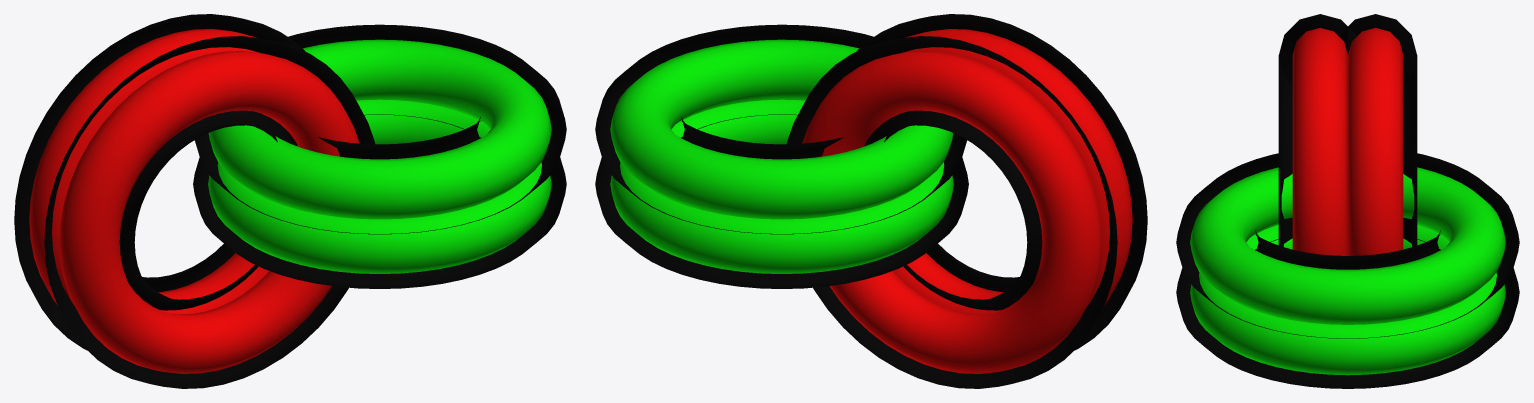
Rendered from 4_in_2_chain_tutorial_02.glb.
3 views of the same model, side by side, from view 1: azimuth 30°, elevation 25°; view 2: azimuth 150°, elevation 25°; view 3: azimuth 270°, elevation 25° (orthographic). The views are drawn at different scales.
Visible parts, largest first — view 1: Torus.001, Torus.003, Torus.002, Torus; view 2: Torus, Torus.003, Torus.002, Torus.001; view 3: Torus.003, Torus.002, Torus, Torus.001.
Boxes of the visible parts, left/top/right/bottom form: Torus.001: left=44, top=36, right=375, bottom=388; Torus.003: left=194, top=24, right=566, bottom=234; Torus.002: left=193, top=99, right=566, bottom=288; Torus: left=14, top=14, right=305, bottom=350; Torus: left=786, top=36, right=1117, bottom=388; Torus.003: left=595, top=24, right=967, bottom=234; Torus.002: left=595, top=99, right=968, bottom=288; Torus.001: left=856, top=14, right=1147, bottom=350; Torus.003: left=1176, top=153, right=1519, bottom=338; Torus.002: left=1176, top=225, right=1519, bottom=388; Torus: left=1339, top=14, right=1417, bottom=255; Torus.001: left=1278, top=14, right=1356, bottom=255.
Bounding box in the file's own units: 3.88 × 2.48 × 2.48.
